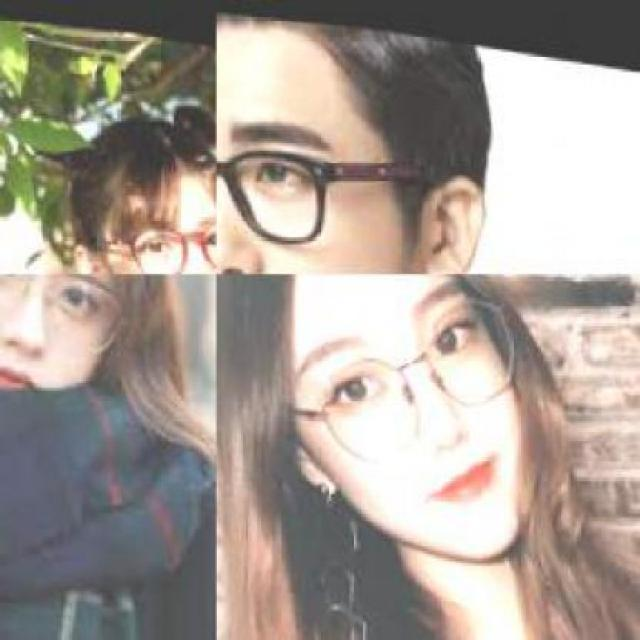mask: (276, 290, 516, 480), (218, 142, 466, 267), (2, 274, 132, 349), (84, 224, 215, 272)
